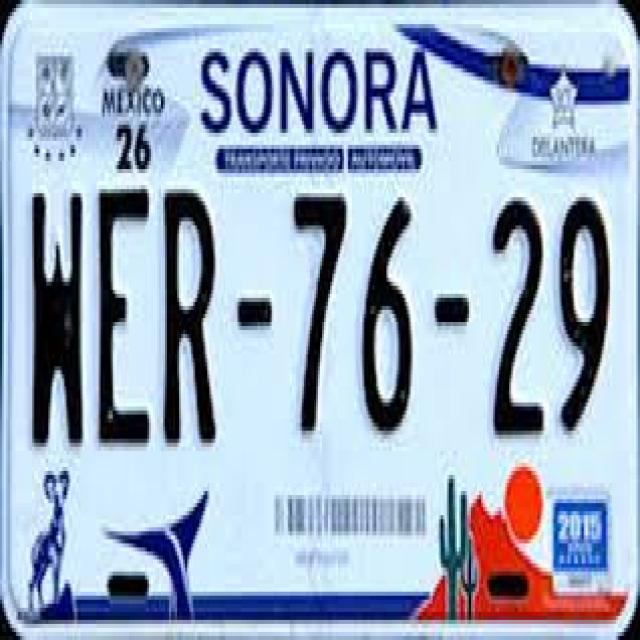placa: (15, 173, 632, 460)
